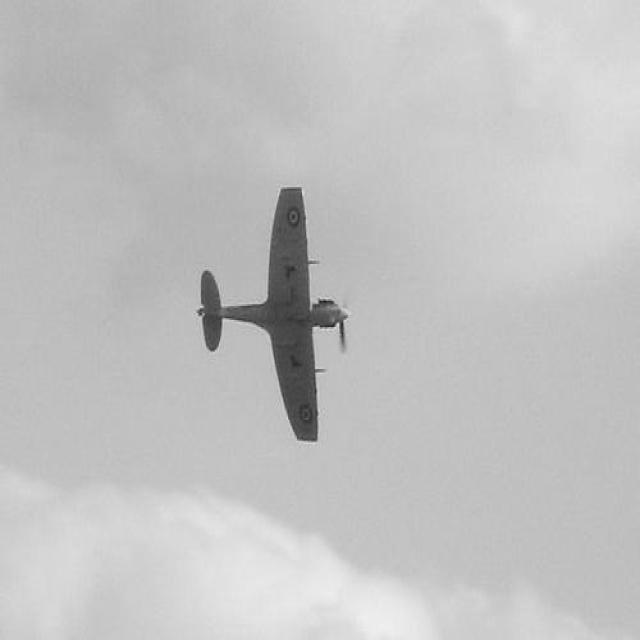aeroplane: (194, 183, 350, 444)
